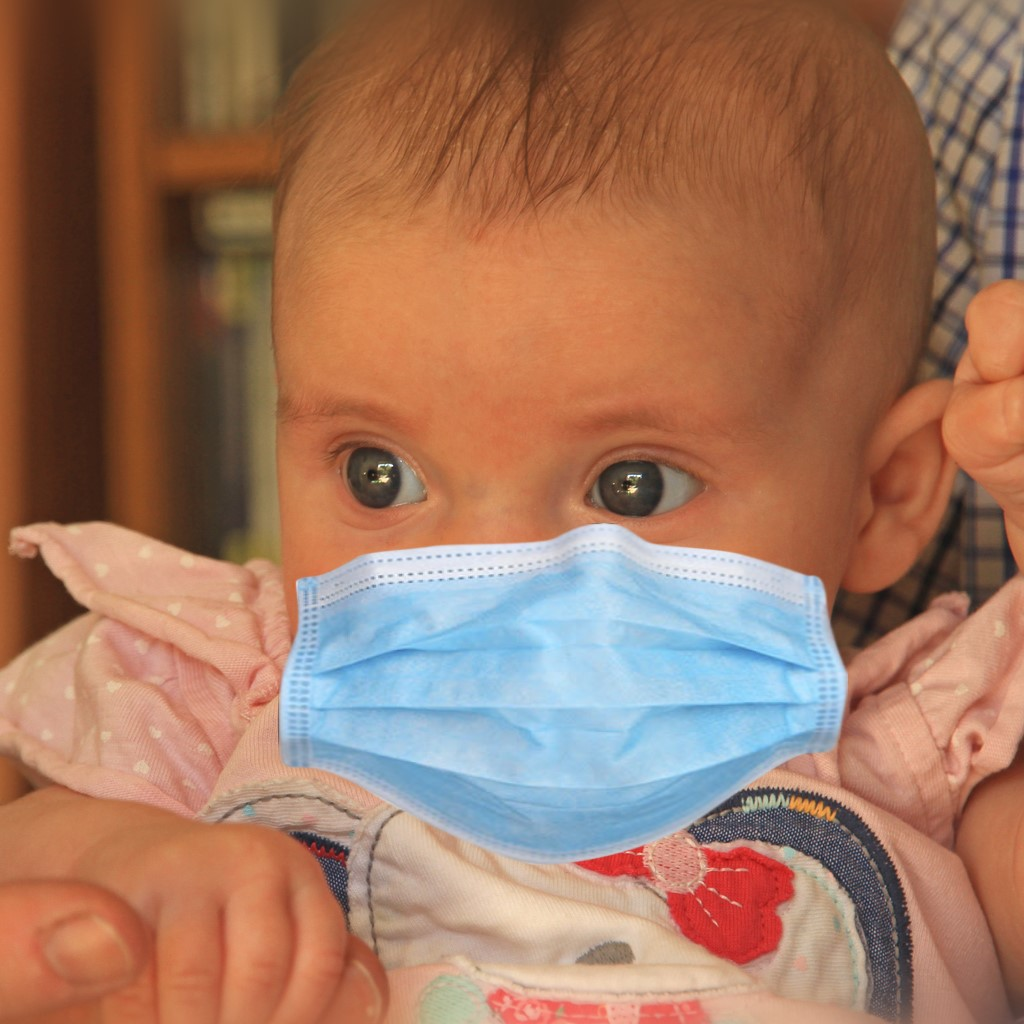con_mascara: (272, 70, 854, 803)
